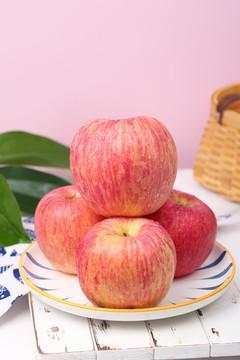apple: (70, 117, 177, 217), (76, 214, 178, 309), (145, 188, 216, 277), (32, 182, 95, 276)
